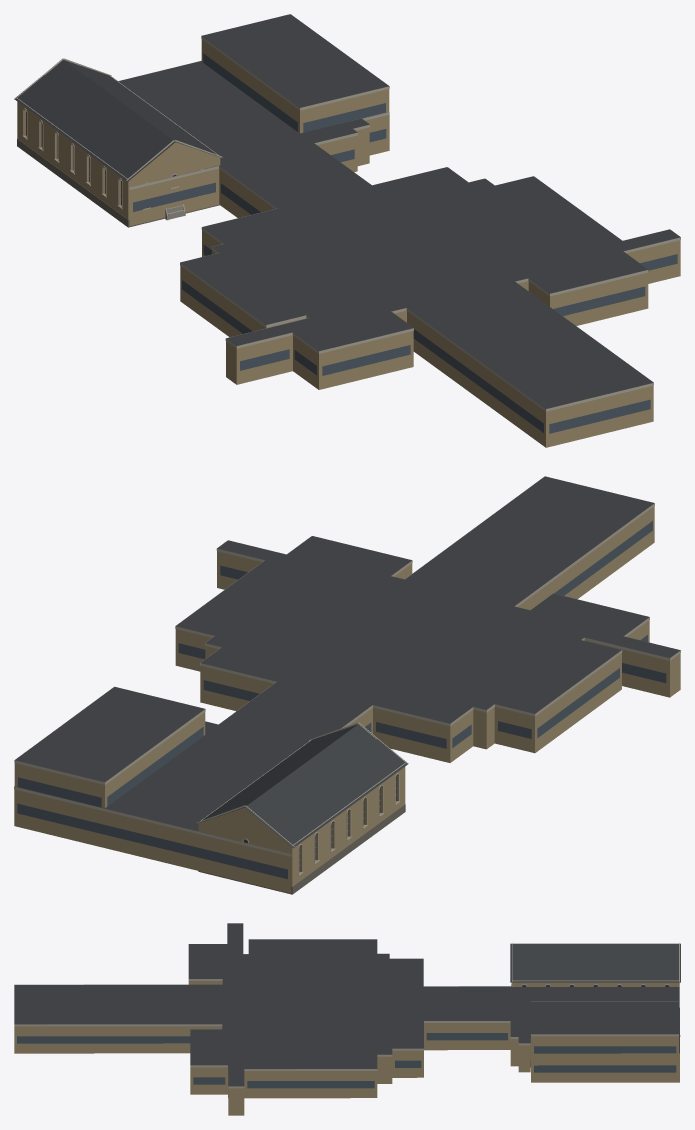
The model's file is south-city-church.glb.
The picture shows the model from 3 angles, top to bottom: view 1: azimuth 30°, elevation 25°; view 2: azimuth 150°, elevation 25°; view 3: azimuth 270°, elevation 25°; orthographic projection. The views are drawn at different scales.
Visible parts, largest first — view 1: south_city_church; view 2: south_city_church; view 3: south_city_church.
Part boxes in pixels (<box>): south_city_church: <box>14,14,680,447</box>; south_city_church: <box>14,476,680,894</box>; south_city_church: <box>14,923,680,1115</box>.
Bounding box in the file's own units: 82.2 × 13.59 × 142.
